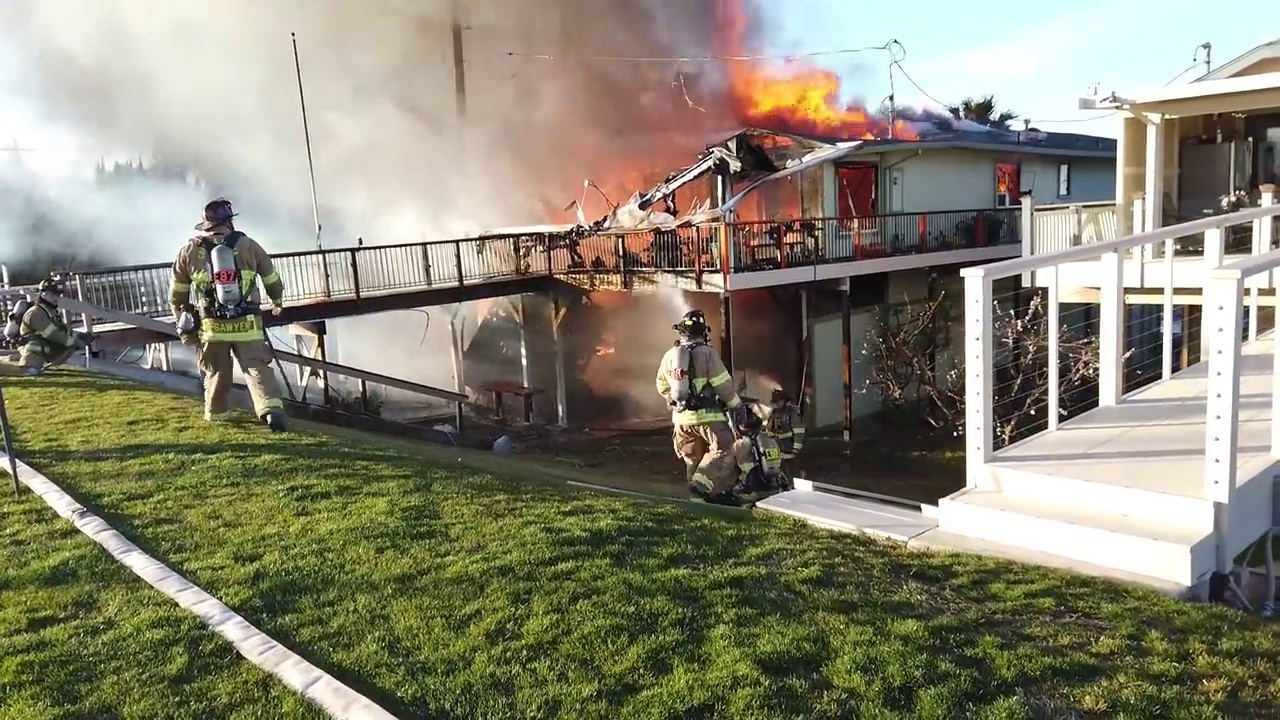fire: (735, 55, 916, 138), (837, 168, 876, 216), (996, 166, 1021, 192), (594, 340, 622, 362)
smoke: (1, 1, 741, 242), (326, 317, 457, 386), (610, 296, 655, 424), (730, 292, 801, 373), (462, 300, 522, 394), (562, 309, 609, 424), (742, 176, 801, 220), (168, 339, 198, 376), (274, 327, 292, 349)
